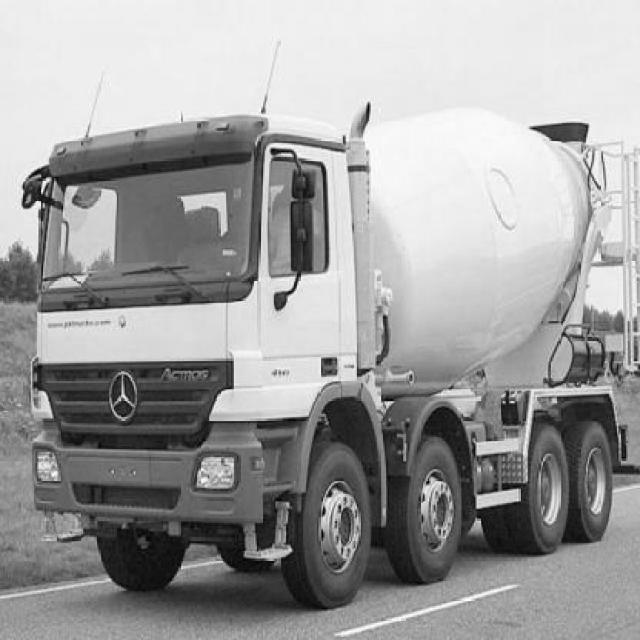Concrete Mixer: (21, 104, 626, 612)
